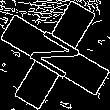N_SE: (23, 25, 87, 85)
